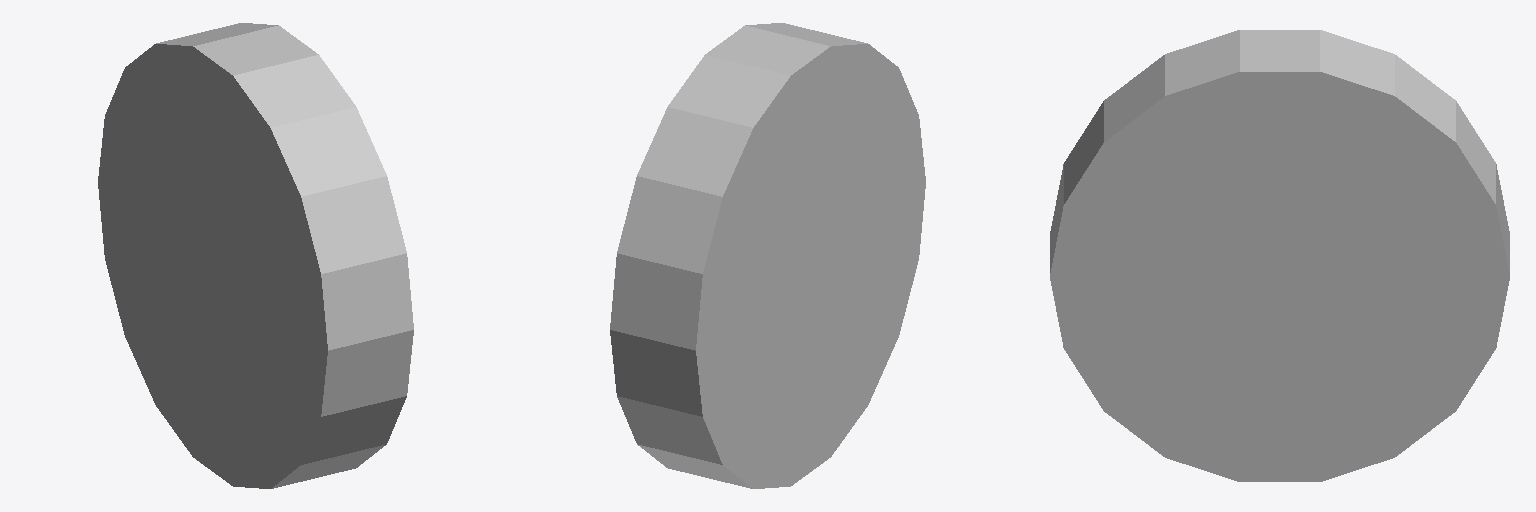
File: Baffle Seule Enceinte Concert.obj
3 renders of one model, left to right at view 1: azimuth 30°, elevation 25°; view 2: azimuth 150°, elevation 25°; view 3: azimuth 270°, elevation 25°, orthographic.
Visible parts, largest first — view 1: Cylinder001; view 2: Cylinder001; view 3: Cylinder001.
Part boxes in pixels (bbox=[...]): Cylinder001: bbox=[98, 23, 413, 488]; Cylinder001: bbox=[610, 23, 925, 488]; Cylinder001: bbox=[1050, 30, 1509, 481].
Size of the model in its own units: 3.93 by 17.93 by 18.21.